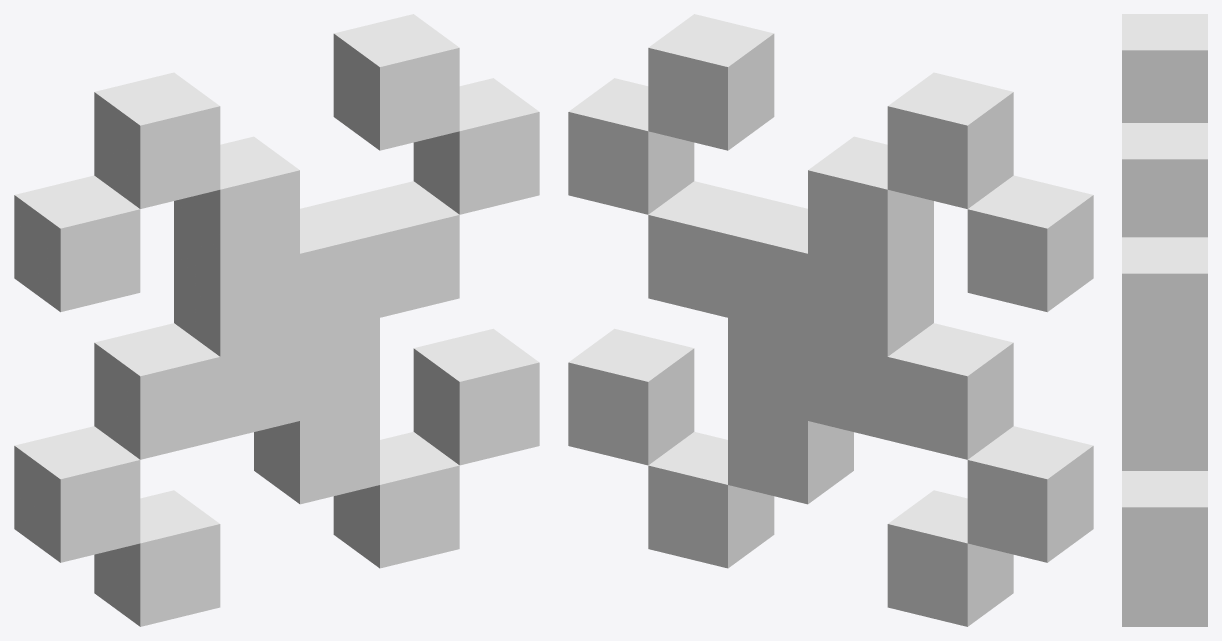
File: Fireball-Small-White.vox.obj
3 views of the same model, side by side, from view 1: azimuth 30°, elevation 25°; view 2: azimuth 150°, elevation 25°; view 3: azimuth 270°, elevation 25° (orthographic). The views are drawn at different scales.
Size of the model in its own units: 0.6 by 0.6 by 0.1.
1 material, 1 textured.
